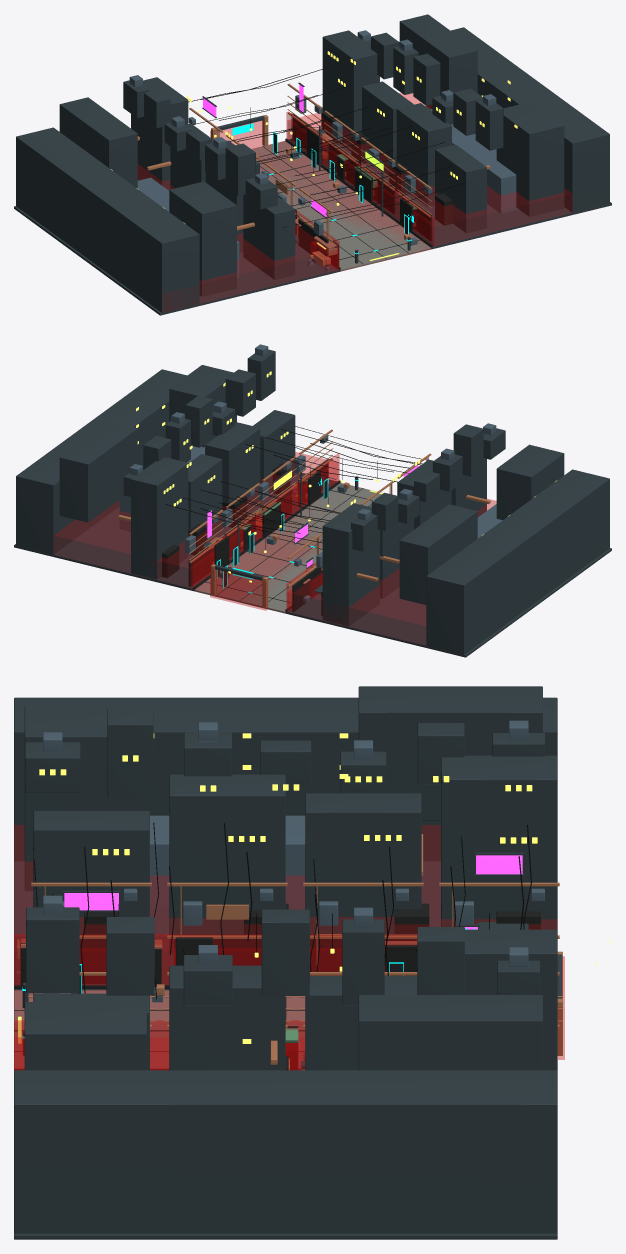
The model's file is hesperus_market_lower_spire_bazaar_blockout.glb.
3 views of the same model, one above another, from view 1: azimuth 30°, elevation 25°; view 2: azimuth 150°, elevation 25°; view 3: azimuth 270°, elevation 25° (orthographic). The views are drawn at different scales.
Visible parts, largest first — view 1: WideSideBackdrop_L_RearContinuousBlock_OuterBazaarWidth, CentralStreet_10mWide_28mLong_ClearFPSLane, WideSideBackdrop_R_RearContinuousBlock_OuterBazaarWidth, COL_WideRightNonPlayableSideFill_Box, WideSideBackdrop_R_NearDepthChunkyWarehouse, WideSideBackdrop_L_NearDepthChunkyWarehouse, COL_WideLeftNonPlayableSideFill_Box, RIGHT_CHUNK_D_FAR_MainMass, WideSideBackdrop_L_FarDepthApartmentStack, LEFT_CHUNK_A_NEAR_MainMass, RIGHT_CHUNK_A_NEAR_MainMass, RIGHT_CHUNK_B_MID_MainMass (+30 smaller); view 2: WideSideBackdrop_L_RearContinuousBlock_OuterBazaarWidth, WideSideBackdrop_R_RearContinuousBlock_OuterBazaarWidth, COL_WideRightNonPlayableSideFill_Box, CentralStreet_10mWide_28mLong_ClearFPSLane, RIGHT_CHUNK_D_FAR_MainMass, WideSideBackdrop_R_FarDepthApartmentStack, LEFT_CHUNK_D_FAR_MainMass, COL_WideLeftNonPlayableSideFill_Box, RightVendorFacadeStrip_20mWide_28mLong_GodotBazaarFloorFill, WideSideBackdrop_L_FarDepthApartmentStack, LeftVendorFacadeStrip_20mWide_28mLong_GodotBazaarFloorFill, WideSideBackdrop_L_NearDepthChunkyWarehouse (+30 smaller); view 3: WideSideBackdrop_R_RearContinuousBlock_OuterBazaarWidth, WideSideBackdrop_L_RearContinuousBlock_OuterBazaarWidth, LEFT_CHUNK_D_FAR_MainMass, LEFT_CHUNK_B_MID_MainMass, WideSideBackdrop_R_FarDepthApartmentStack, LEFT_CHUNK_C_MIDFAR_MainMass, WideSideBackdrop_L_FarDepthApartmentStack, LEFT_CHUNK_A_NEAR_MainMass, RIGHT_CHUNK_B_MID_MainMass, COL_WideLeftNonPlayableSideFill_Box, WideSideBackdrop_R_NearDepthChunkyWarehouse, WideSideBackdrop_L_NearDepthChunkyWarehouse (+32 smaller).
Part boxes in pixels (box(x1,y1,x2,y2)): WideSideBackdrop_L_RearContinuousBlock_OuterBazaarWidth: box(16, 127, 199, 312); CentralStreet_10mWide_28mLong_ClearFPSLane: box(251, 141, 430, 271); WideSideBackdrop_R_RearContinuousBlock_OuterBazaarWidth: box(426, 27, 609, 212); COL_WideRightNonPlayableSideFill_Box: box(287, 93, 572, 245); WideSideBackdrop_R_NearDepthChunkyWarehouse: box(496, 101, 564, 216); WideSideBackdrop_L_NearDepthChunkyWarehouse: box(169, 181, 236, 296); COL_WideLeftNonPlayableSideFill_Box: box(138, 164, 338, 311); RIGHT_CHUNK_D_FAR_MainMass: box(322, 30, 379, 151); WideSideBackdrop_L_FarDepthApartmentStack: box(59, 97, 137, 188); LEFT_CHUNK_A_NEAR_MainMass: box(243, 194, 295, 279); RIGHT_CHUNK_A_NEAR_MainMass: box(435, 144, 486, 233); RIGHT_CHUNK_B_MID_MainMass: box(396, 103, 451, 206); WideSideBackdrop_L_RearContinuousBlock_OuterBazaarWidth: box(426, 469, 609, 654); WideSideBackdrop_R_RearContinuousBlock_OuterBazaarWidth: box(16, 369, 186, 554); COL_WideRightNonPlayableSideFill_Box: box(53, 452, 338, 587); CentralStreet_10mWide_28mLong_ClearFPSLane: box(195, 483, 382, 613); RIGHT_CHUNK_D_FAR_MainMass: box(131, 457, 188, 579); WideSideBackdrop_R_FarDepthApartmentStack: box(59, 421, 137, 522); LEFT_CHUNK_D_FAR_MainMass: box(322, 503, 379, 626); COL_WideLeftNonPlayableSideFill_Box: box(287, 499, 496, 645); RightVendorFacadeStrip_20mWide_28mLong_GodotBazaarFloorFill: box(14, 473, 340, 591); WideSideBackdrop_L_FarDepthApartmentStack: box(399, 504, 477, 604); LeftVendorFacadeStrip_20mWide_28mLong_GodotBazaarFloorFill: box(285, 548, 611, 657); WideSideBackdrop_L_NearDepthChunkyWarehouse: box(496, 444, 564, 519); WideSideBackdrop_R_RearContinuousBlock_OuterBazaarWidth: box(14, 1070, 557, 1233); WideSideBackdrop_L_RearContinuousBlock_OuterBazaarWidth: box(14, 697, 557, 861); LEFT_CHUNK_D_FAR_MainMass: box(441, 755, 557, 929); LEFT_CHUNK_B_MID_MainMass: box(169, 774, 285, 953); WideSideBackdrop_R_FarDepthApartmentStack: box(358, 995, 542, 1070); LEFT_CHUNK_C_MIDFAR_MainMass: box(305, 793, 421, 934); WideSideBackdrop_L_FarDepthApartmentStack: box(358, 686, 542, 820); LEFT_CHUNK_A_NEAR_MainMass: box(33, 811, 149, 934); RIGHT_CHUNK_B_MID_MainMass: box(169, 965, 285, 1070); COL_WideLeftNonPlayableSideFill_Box: box(14, 825, 556, 984); WideSideBackdrop_R_NearDepthChunkyWarehouse: box(24, 1002, 146, 1070); WideSideBackdrop_L_NearDepthChunkyWarehouse: box(24, 705, 146, 891).
Size of the model in its own units: 50 by 13.85 by 30.8.
